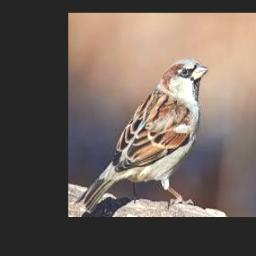Sparrow: (84, 58, 207, 214)
